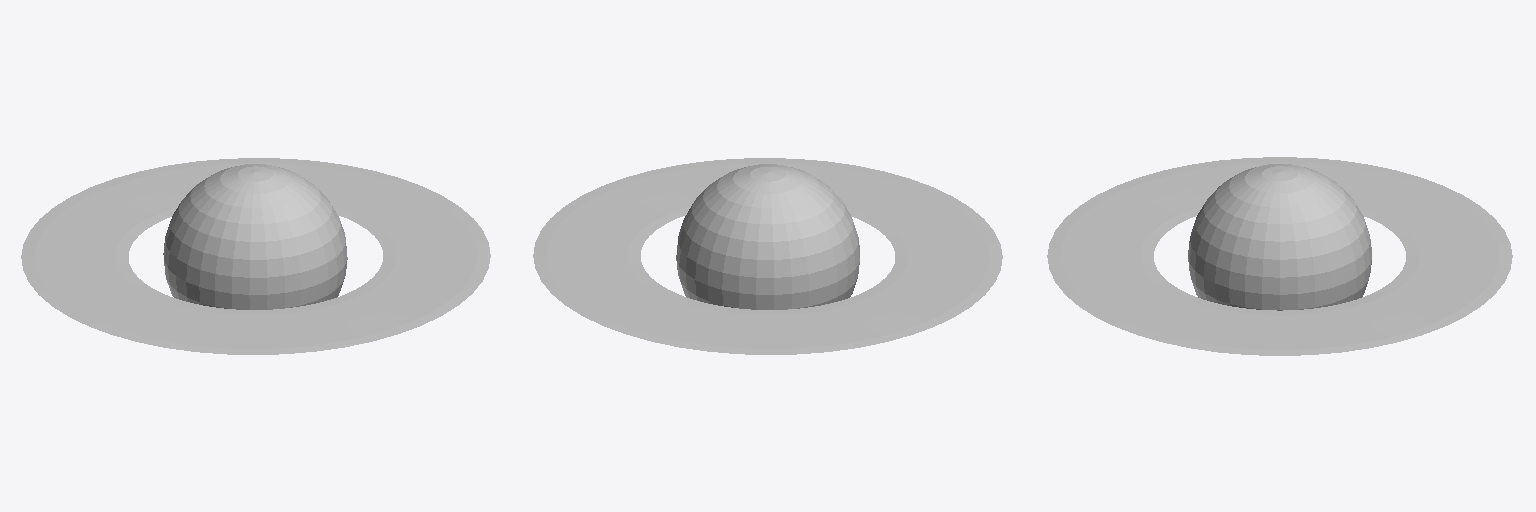
File: saturn.obj
3 renders of one model, left to right at view 1: azimuth 30°, elevation 25°; view 2: azimuth 150°, elevation 25°; view 3: azimuth 270°, elevation 25°, orthographic.
Parts seen in each view (by area): view 1: Saturn_Mesh; view 2: Saturn_Mesh; view 3: Saturn_Mesh.
Part boxes in pixels (left/top/right/bottom): Saturn_Mesh: left=21, top=158, right=490, bottom=354; Saturn_Mesh: left=533, top=158, right=1002, bottom=354; Saturn_Mesh: left=1047, top=157, right=1512, bottom=355.
Bounding box in the file's own units: 98.87 × 38.75 × 97.69.